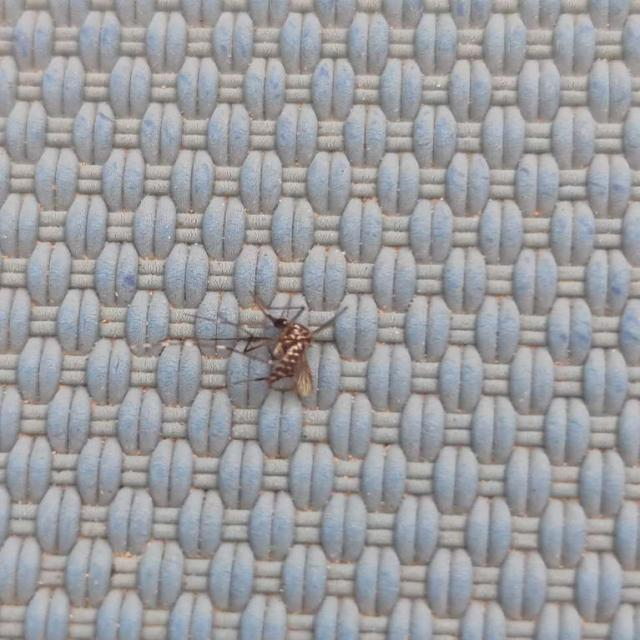albopictus: (228, 292, 352, 390)
